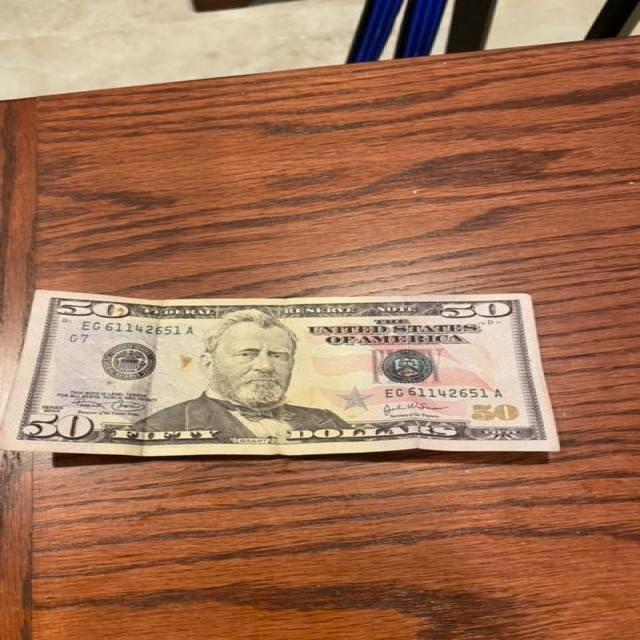50-Front: (1, 288, 563, 452)
